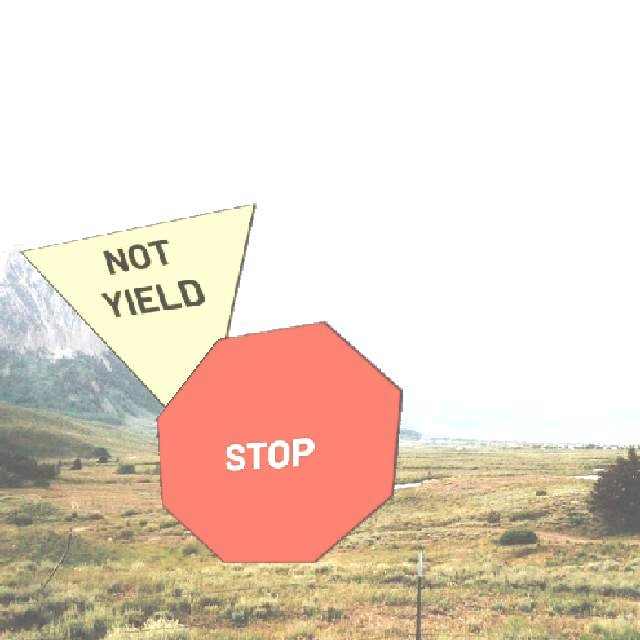NOT_YIELD: (18, 201, 255, 448)
STOP: (155, 319, 402, 562)
